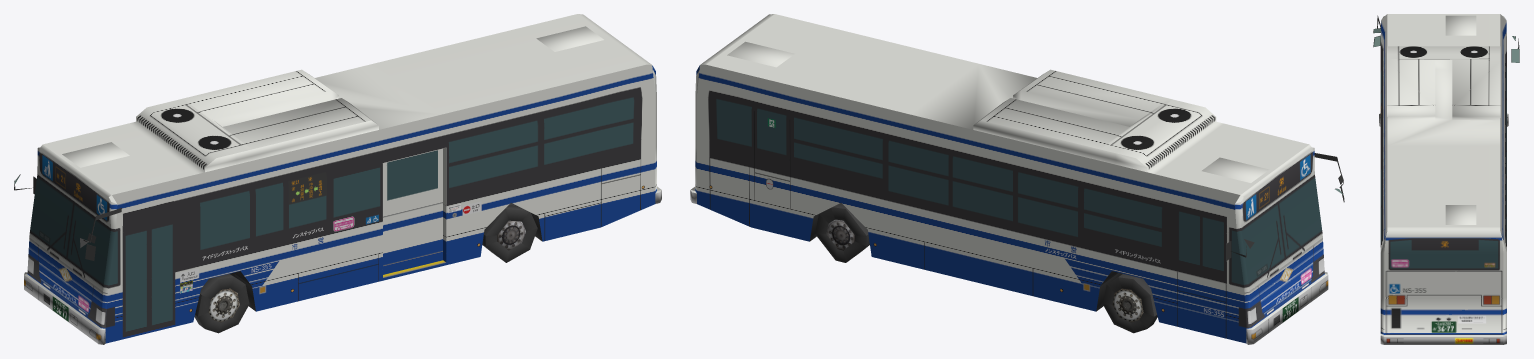
The model's file is bus.fbx.
3 views of the same model, side by side, from view 1: azimuth 30°, elevation 25°; view 2: azimuth 150°, elevation 25°; view 3: azimuth 270°, elevation 25° (orthographic). The views are drawn at different scales.
Visible parts, largest first — view 1: Cube.004; view 2: Cube.004; view 3: Cube.004.
Boxes of the visible parts, x1,y1,x2,y2 form: Cube.004: (14, 14, 661, 344); Cube.004: (690, 14, 1344, 344); Cube.004: (1373, 14, 1519, 344).
Size of the model in its own units: 1085 by 310 by 290.
1 material, 1 textured.
